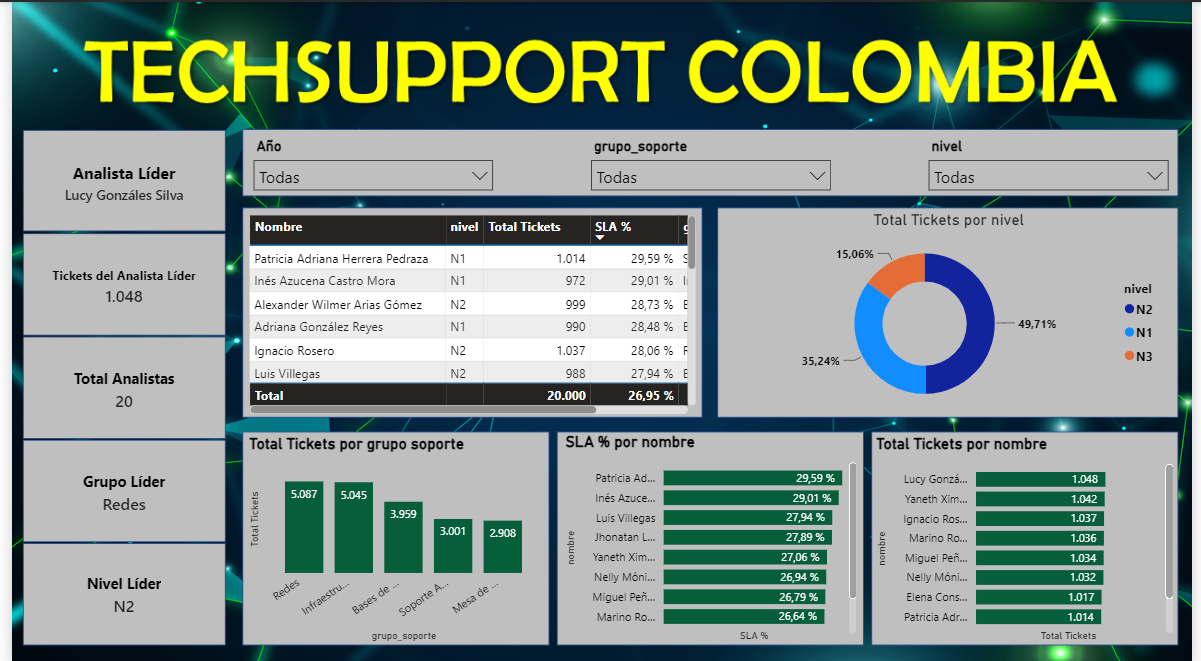

The page's visual inventory and layout, read from the dashboard file:
{"tool":"powerbi","page":{"name":"Rendimiento de Analistas","canvas":[1280,720],"ordinal":2},"visuals":[{"type":"cardVisual","fields":{"Data":["Medidas.Analista Líder"]},"box":[13,141.5,218,109],"z":0},{"type":"cardVisual","fields":{"Data":["Medidas.Tickets del Analista Líder"]},"box":[13,253.6,218,109],"z":1000},{"type":"cardVisual","fields":{"Data":["Medidas.Total Analistas"]},"box":[13,365.6,218,109],"z":2000},{"type":"cardVisual","fields":{"Data":["Medidas.Grupo Líder"]},"box":[13,477.7,218,108],"z":3000},{"type":"slicer","fields":{"Values":["Calendario.Año"]},"box":[251.9,141.7,279.5,69.8],"z":4000},{"type":"slicer","fields":{"Values":["analistas.grupo_soporte"]},"box":[617.5,141.7,279.8,69.1],"z":5000},{"type":"slicer","fields":{"Values":["analistas.nivel"]},"box":[983.4,141.7,279.8,69.1],"z":6000},{"type":"clusteredBarChart","fields":{"Category":["analistas.nombre"],"Y":["Medidas.Total Tickets"]},"box":[932,468.4,331.8,229.3],"z":7000},{"type":"columnChart","title":"Total Tickets por grupo soporte","fields":{"Category":["analistas.grupo_soporte"],"Y":["Medidas.Total Tickets"]},"box":[252.1,468.4,328.6,229.3],"z":8000},{"type":"clusteredBarChart","fields":{"Category":["analistas.nombre"],"Y":["Medidas.SLA %"]},"box":[595.3,466.8,325.3,231],"z":9000},{"type":"donutChart","fields":{"Category":["analistas.nivel"],"Y":["Medidas.Total Tickets"]},"box":[767.1,226.6,496.1,225.4],"z":10000},{"type":"tableEx","fields":{"Values":["analistas.nombre","analistas.nivel","Medidas.Total Tickets","Medidas.SLA %","analistas.grupo_soporte"]},"box":[252.1,226.6,494.6,225.4],"z":11000},{"type":"cardVisual","fields":{"Data":["Medidas.Nivel Líder"]},"box":[13,588.8,218,109],"z":12000}]}

Visuals, with their boxes in screenshot pixels (x1, y1, x2, y2), scaled from the page's 1280x720 canvas onto the 1201x661 screenshot:
cardVisual - Medidas.Analista Líder: (x1=12, y1=130, x2=217, y2=230)
cardVisual - Medidas.Tickets del Analista Líder: (x1=12, y1=233, x2=217, y2=333)
cardVisual - Medidas.Total Analistas: (x1=12, y1=336, x2=217, y2=436)
cardVisual - Medidas.Grupo Líder: (x1=12, y1=439, x2=217, y2=538)
slicer - Calendario.Año: (x1=236, y1=130, x2=499, y2=194)
slicer - analistas.grupo_soporte: (x1=579, y1=130, x2=842, y2=194)
slicer - analistas.nivel: (x1=923, y1=130, x2=1185, y2=194)
clusteredBarChart - analistas.nombre x Medidas.Total Tickets: (x1=874, y1=430, x2=1186, y2=641)
"Total Tickets por grupo soporte" columnChart: (x1=237, y1=430, x2=545, y2=641)
clusteredBarChart - analistas.nombre x Medidas.SLA %: (x1=559, y1=429, x2=864, y2=641)
donutChart - analistas.nivel x Medidas.Total Tickets: (x1=720, y1=208, x2=1185, y2=415)
tableEx - analistas.nombre x analistas.nivel: (x1=237, y1=208, x2=701, y2=415)
cardVisual - Medidas.Nivel Líder: (x1=12, y1=541, x2=217, y2=641)
